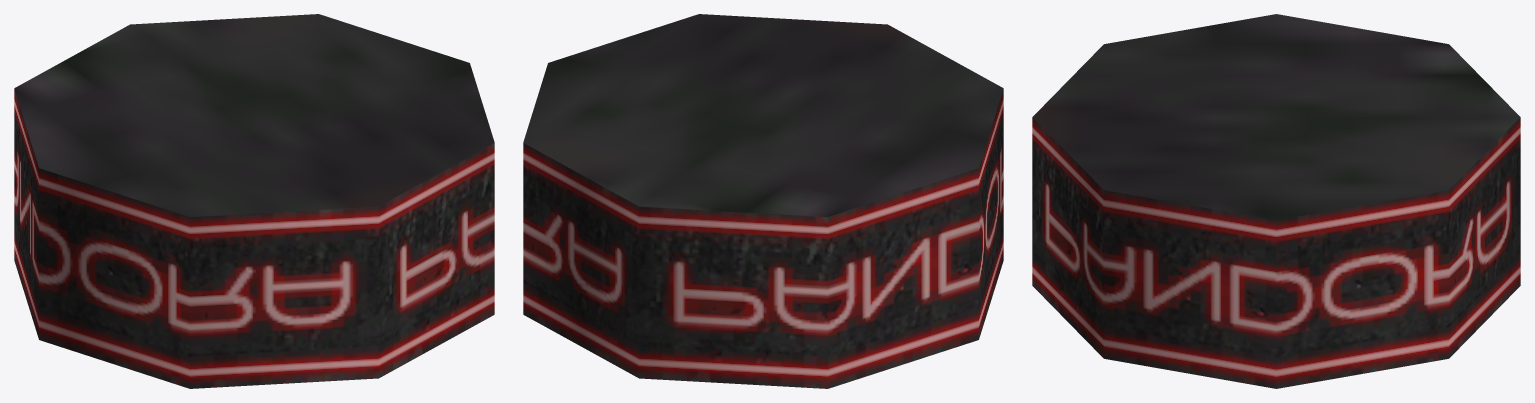
The model's file is pandora_center_int.fbx.
3 renders of one model, left to right at view 1: azimuth 30°, elevation 25°; view 2: azimuth 150°, elevation 25°; view 3: azimuth 270°, elevation 25°, orthographic.
Parts seen in each view (by area): view 1: mesh_0; view 2: mesh_0; view 3: mesh_0.
Boxes of the visible parts, bbox=[...] form: mesh_0: bbox=[14, 14, 494, 388]; mesh_0: bbox=[523, 14, 1003, 388]; mesh_0: bbox=[1032, 14, 1520, 388].
Bounding box in the file's own units: 170 × 64.87 × 170.
1 material, 1 textured.
